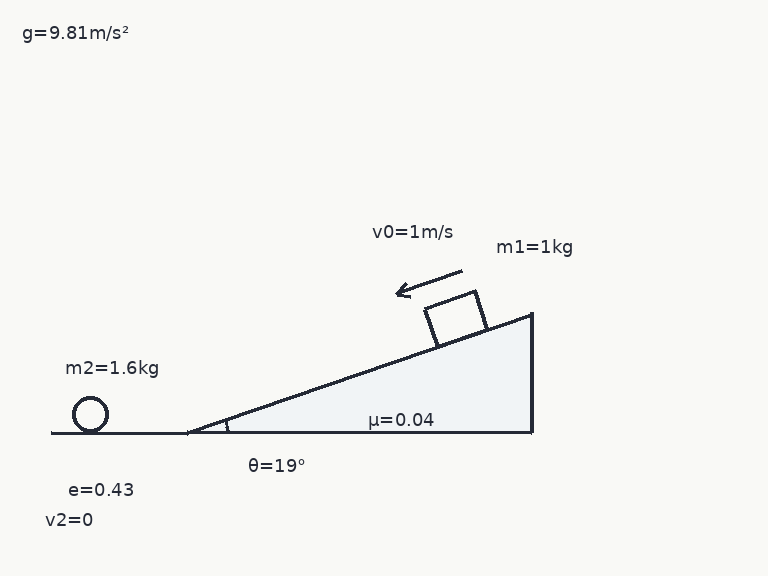ball: (70, 394, 110, 434)
block: (422, 290, 490, 348)
ramp: (185, 311, 534, 434)
